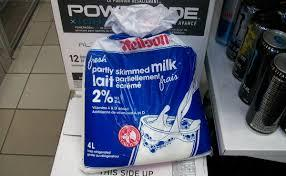Plastic bag: (69, 5, 224, 169)
